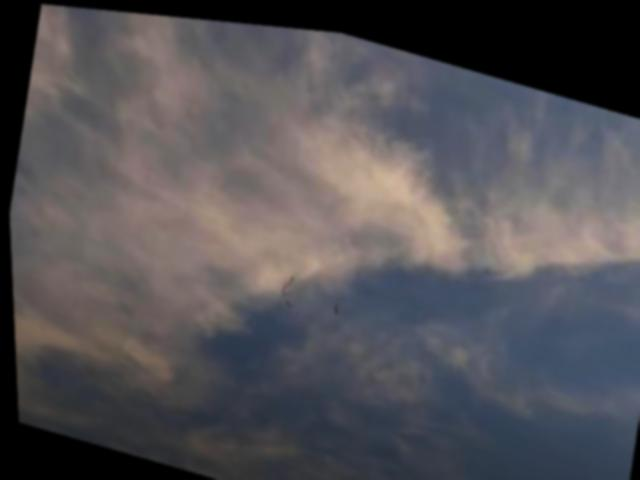iha: (331, 297, 338, 308)
